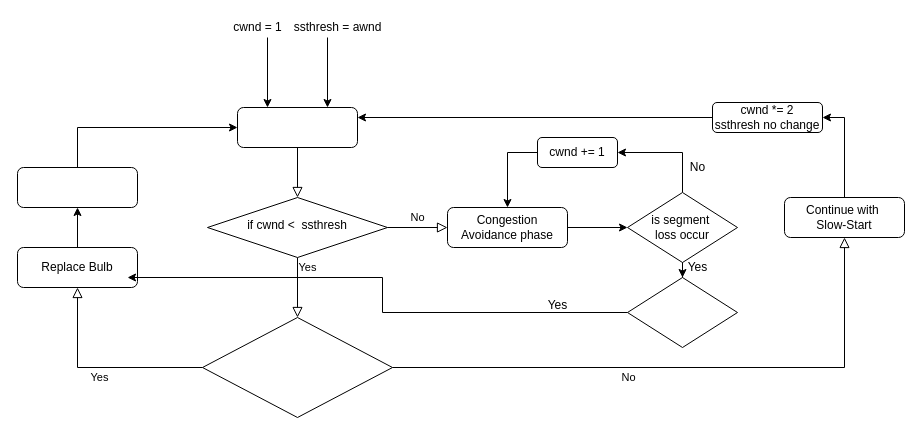
Image size: 922x435. Some labels were removed from this diagram. Each missing label, with the box of its shape:
if segment loss occur (RTO or 3 dupACK): (202, 316, 392, 418)
is RTO ?: (626, 276, 738, 348)
ssthresh = max(cwnd/2, 2) cwnd = 1: (16, 166, 138, 208)
Trigger Slow-Start: (236, 106, 358, 148)
